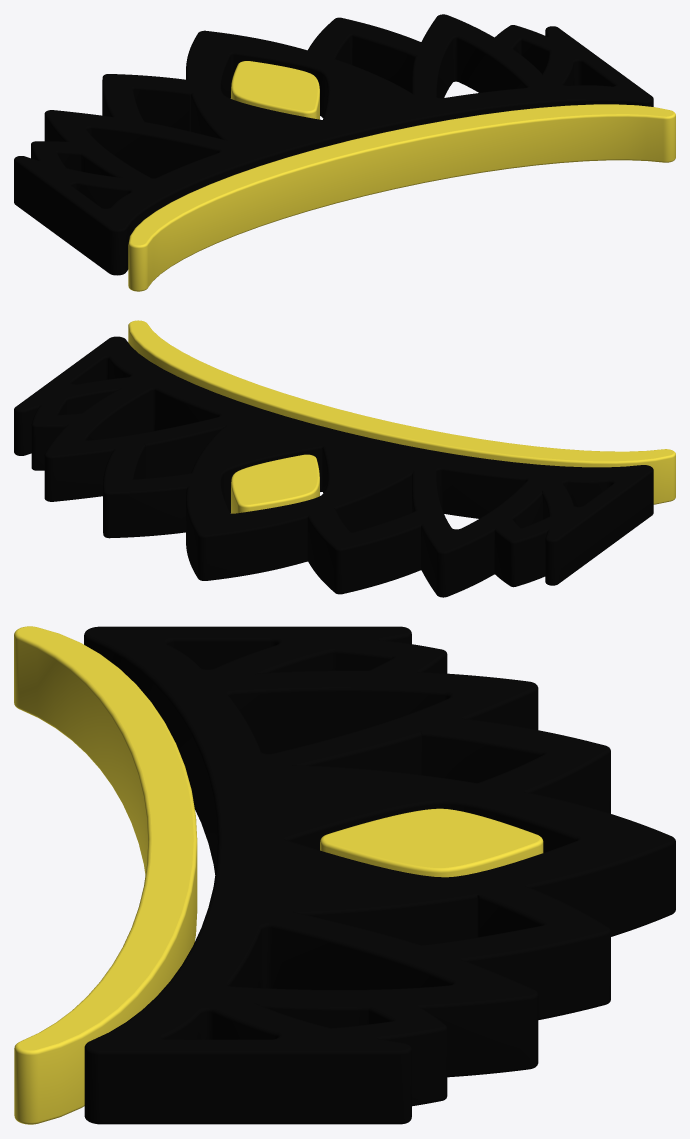
Rendered from FUNDACOR.gltf.
3 views of the same model, one above another, from view 1: azimuth 30°, elevation 25°; view 2: azimuth 150°, elevation 25°; view 3: azimuth 270°, elevation 25° (orthographic). The views are drawn at different scales.
Parts seen in each view (by area): view 1: Curve.004, Curve.002, Curve.003; view 2: Curve.004, Curve.002, Curve.003; view 3: Curve.004, Curve.002, Curve.003.
Part boxes in pixels (box(x1,y1,x2,y2)): Curve.004: box(14, 14, 653, 275); Curve.002: box(128, 104, 675, 291); Curve.003: box(231, 61, 319, 119); Curve.004: box(14, 336, 653, 597); Curve.002: box(128, 320, 675, 504); Curve.003: box(231, 454, 319, 513); Curve.004: box(84, 626, 675, 1124); Curve.002: box(14, 626, 197, 1124); Curve.003: box(320, 808, 543, 877).
Bounding box in the file's own units: 10.9 × 0.88 × 7.15.
